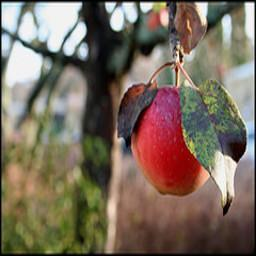apple: (131, 84, 211, 195)
